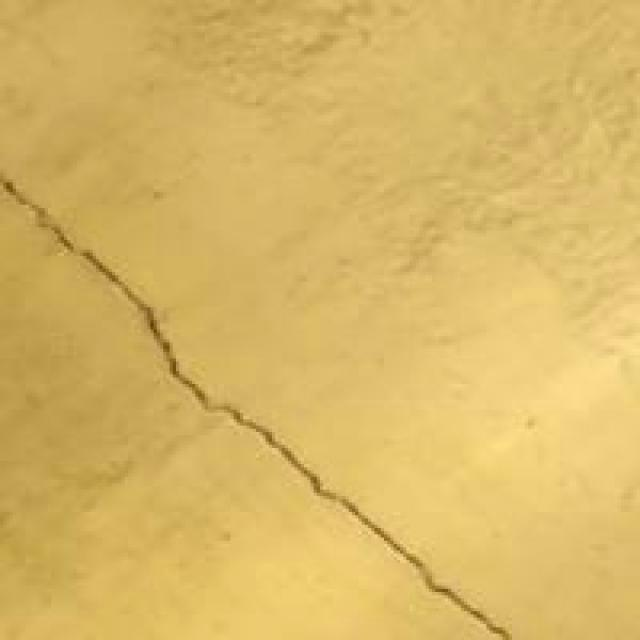crack: (0, 158, 538, 640)
